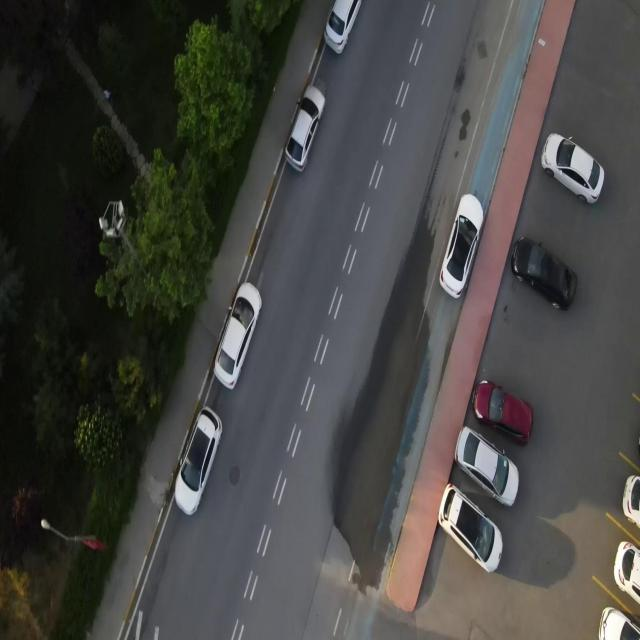p3rson: (102, 85, 111, 107)
